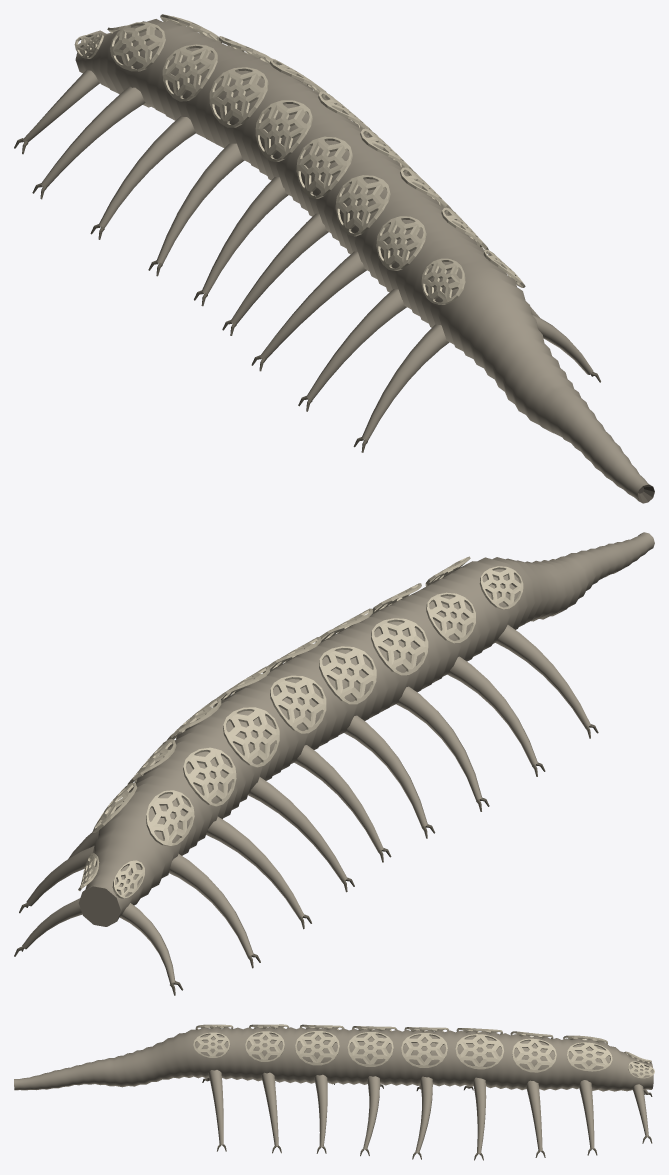
3 views of the same model, one above another, from view 1: azimuth 30°, elevation 25°; view 2: azimuth 150°, elevation 25°; view 3: azimuth 270°, elevation 25° (orthographic). The views are drawn at different scales.
Visible parts, largest first — view 1: soft_annulated_trunk_and_limb_free_anterior, perforated_sclerite_L06, perforated_sclerite_L05, perforated_sclerite_L04, lobopod_L06, lobopod_L03, lobopod_L07, perforated_sclerite_L03, lobopod_L02, lobopod_L08, lobopod_L01, lobopod_L04 (+8 smaller); view 2: soft_annulated_trunk_and_limb_free_anterior, perforated_sclerite_L06, perforated_sclerite_L04, perforated_sclerite_L03, perforated_sclerite_L05, perforated_sclerite_L07, lobopod_L03, lobopod_L06, lobopod_L07, lobopod_L02, lobopod_L01, lobopod_L04 (+11 smaller); view 3: soft_annulated_trunk_and_limb_free_anterior, perforated_sclerite_R06, perforated_sclerite_R05, perforated_sclerite_R04, perforated_sclerite_R03, perforated_sclerite_R07, perforated_sclerite_R08, perforated_sclerite_R02, lobopod_R05, lobopod_R01, lobopod_R02, lobopod_R06 (+8 smaller).
Boxes of the visible parts, x1,y1,x2,y2 form: soft_annulated_trunk_and_limb_free_anterior: (75,19,652,500); perforated_sclerite_L06: (209,67,268,127); perforated_sclerite_L05: (255,100,312,161); perforated_sclerite_L04: (296,136,352,198); lobopod_L06: (156,143,244,264); lobopod_L03: (260,251,366,359); lobopod_L07: (98,116,195,227); perforated_sclerite_L03: (335,175,390,236); lobopod_L02: (306,289,406,399); lobopod_L08: (41,86,145,187); lobopod_L01: (361,324,449,440); lobopod_L04: (230,213,328,324); soft_annulated_trunk_and_limb_free_anterior: (78,532,654,926); perforated_sclerite_L06: (223,707,279,767); perforated_sclerite_L04: (319,646,376,704); perforated_sclerite_L03: (371,618,428,675); perforated_sclerite_L05: (270,675,326,733); perforated_sclerite_L07: (183,747,236,806); lobopod_L03: (396,686,482,800); lobopod_L06: (248,777,347,880); lobopod_L07: (206,816,304,917); lobopod_L02: (447,656,537,765); lobopod_L01: (495,625,590,727); lobopod_L04: (344,715,427,827); soft_annulated_trunk_and_limb_free_anterior: (14,1027,653,1091); perforated_sclerite_R06: (455,1034,503,1069); perforated_sclerite_R05: (401,1033,447,1067); perforated_sclerite_R04: (347,1032,393,1066); perforated_sclerite_R03: (295,1031,339,1065); perforated_sclerite_R07: (512,1038,556,1072); perforated_sclerite_R08: (567,1042,612,1071); perforated_sclerite_R02: (245,1031,284,1061); lobopod_R05: (415,1076,432,1153); lobopod_R01: (208,1070,223,1145); lobopod_R02: (261,1072,278,1146); lobopod_R06: (472,1077,486,1154).
Size of the model in its own units: 0.0203 by 0.0114 by 0.0704.
